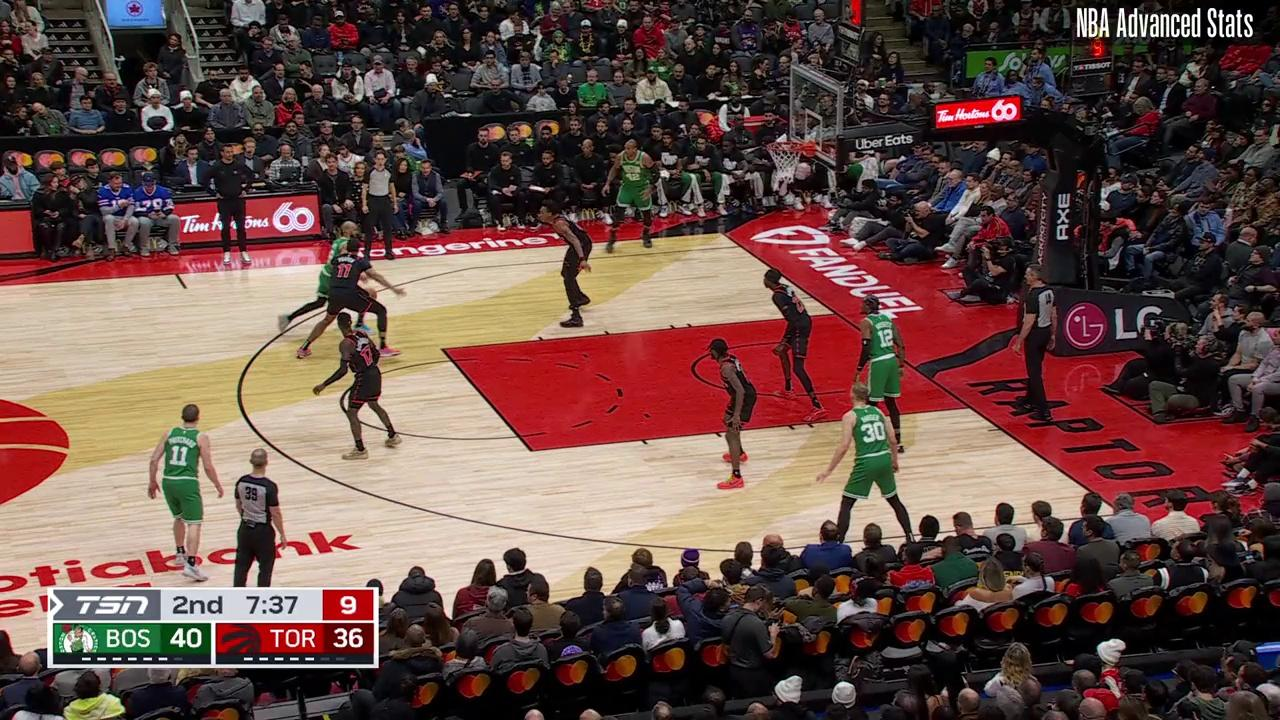3_sx: (736, 243, 746, 250)
b_sx: (716, 229, 725, 237)
free_adx: (526, 445, 537, 456)
free_asx: (435, 344, 449, 355)
free_bdx: (964, 402, 976, 412)
free_bsx: (830, 308, 841, 320)
mid_sx: (179, 283, 191, 293)
referee: (233, 445, 289, 589), (1013, 259, 1059, 419), (355, 153, 403, 260)
team: (813, 382, 916, 541), (147, 403, 226, 578), (274, 220, 373, 335), (853, 290, 912, 455), (603, 139, 657, 252)
team1: (298, 242, 406, 359), (315, 323, 403, 457), (762, 266, 828, 422), (536, 201, 594, 329), (710, 340, 757, 490)
timer: (237, 593, 306, 626)
